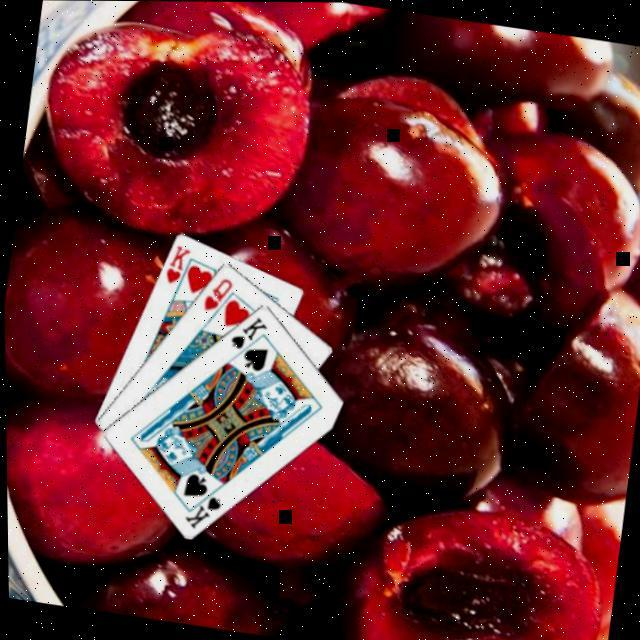KH: (161, 240, 195, 288)
KS: (179, 480, 226, 533), (226, 308, 272, 354)
QH: (200, 271, 238, 315)
